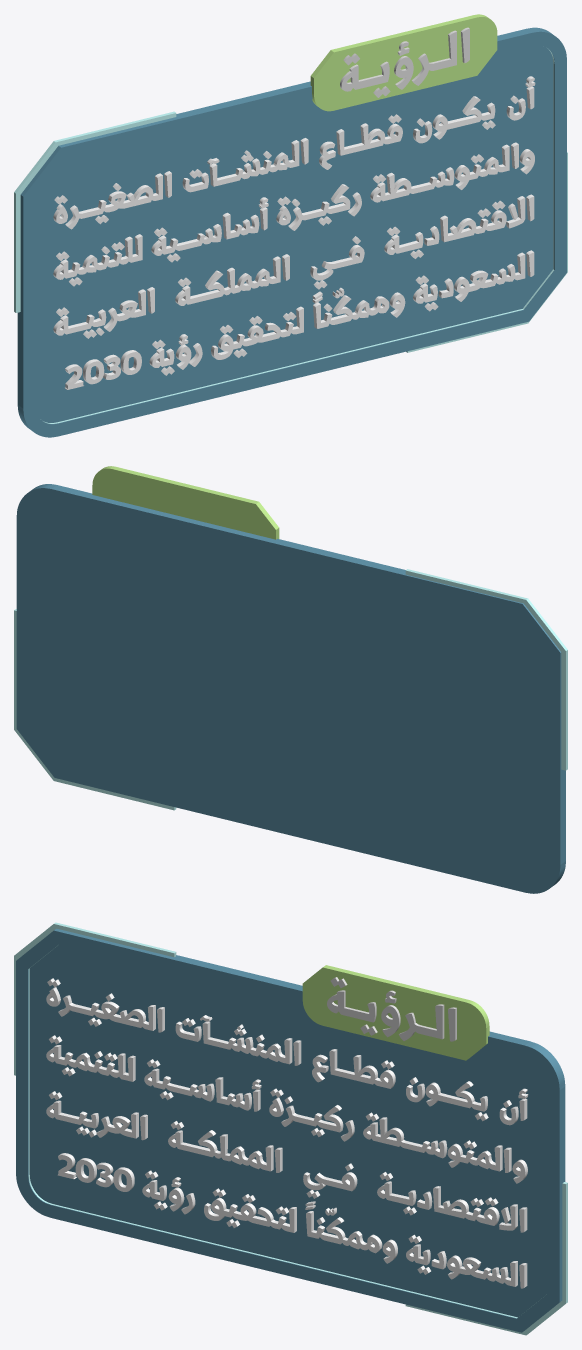
The model's file is asset.glb.
The picture shows the model from 3 angles, top to bottom: view 1: azimuth 30°, elevation 25°; view 2: azimuth 150°, elevation 25°; view 3: azimuth 330°, elevation 25°; orthographic projection.
Parts seen in each view (by area): view 1: Shape013, SShape001, Shape011, Shape008, SShape005, SShape004, Shape018; view 2: Shape013, Shape011, Shape008, SShape004; view 3: Shape013, SShape001, Shape011, Shape008, SShape005, SShape004, Shape018.
Part boxes in pixels (x1,y1,x2,y2): Shape013: (35, 45, 553, 422); SShape001: (53, 76, 535, 389); Shape011: (17, 27, 566, 437); Shape008: (310, 14, 497, 111); SShape005: (340, 27, 469, 97); SShape004: (14, 111, 567, 352); Shape018: (40, 48, 554, 423); Shape013: (29, 501, 548, 880); Shape011: (16, 484, 565, 893); Shape008: (92, 466, 279, 539); SShape004: (14, 569, 567, 810); Shape013: (29, 944, 547, 1317); SShape001: (46, 978, 528, 1288); Shape011: (16, 928, 565, 1332); Shape008: (302, 965, 489, 1060); SShape005: (327, 977, 456, 1041); SShape004: (14, 922, 567, 1335); Shape018: (28, 945, 546, 1318).
Bounding box in the file's own units: 192 × 108 × 5.56.
